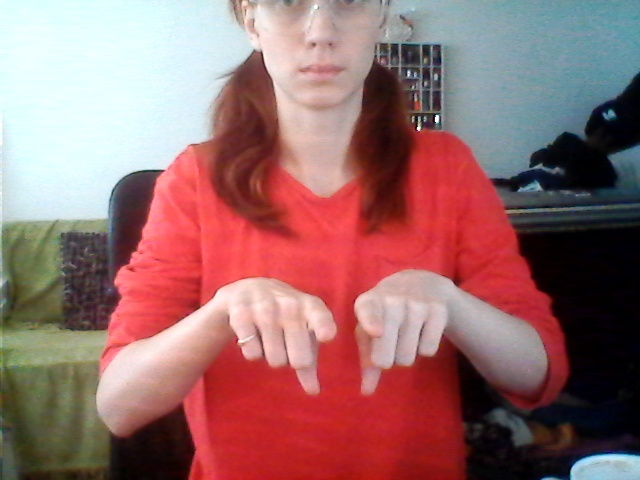sestra: (211, 248, 459, 407)
